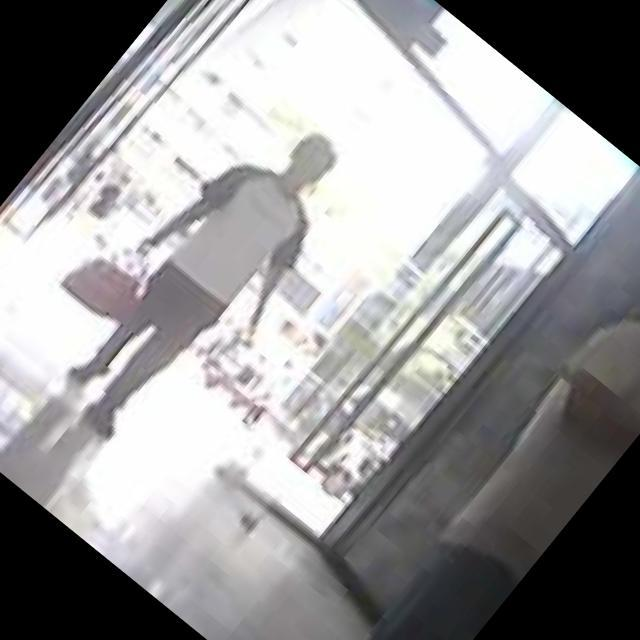person: (286, 223, 640, 640), (29, 89, 382, 476)
